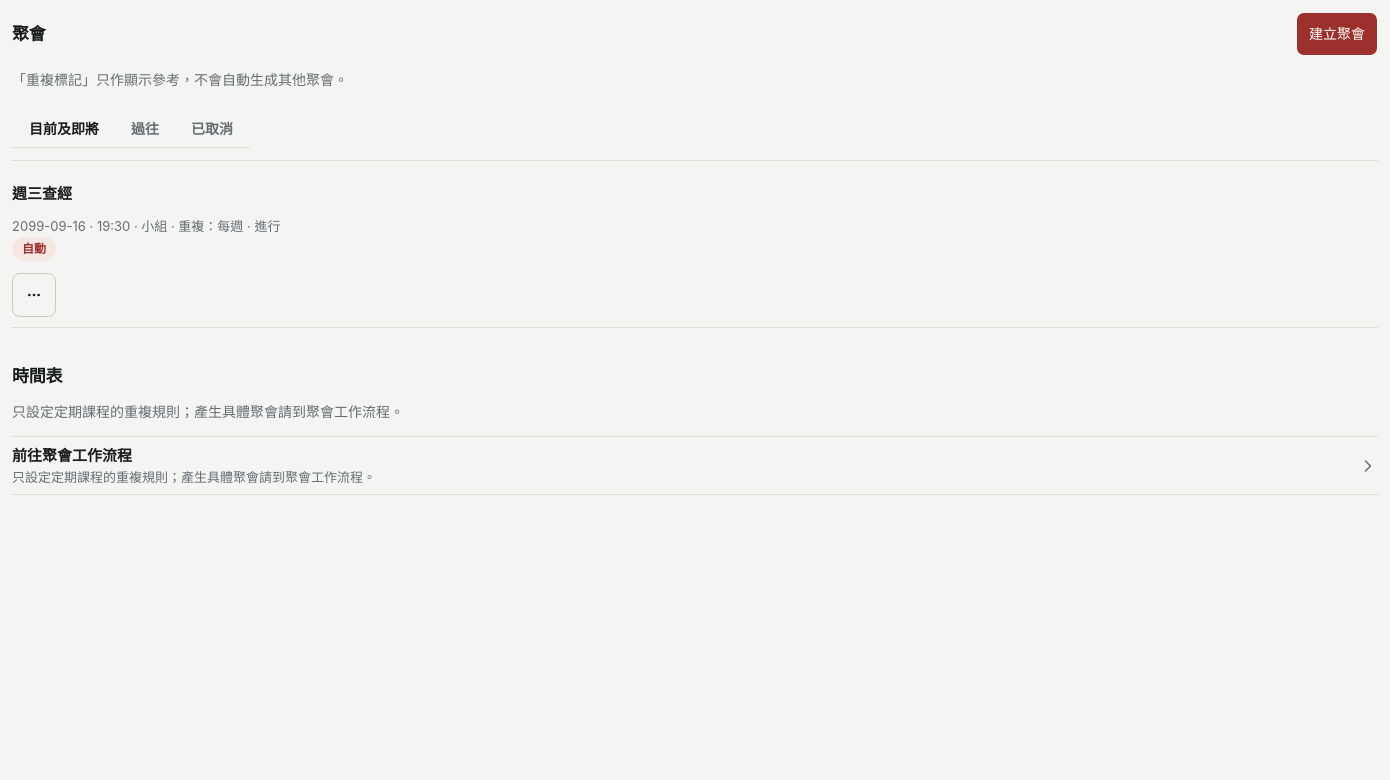
Test case: EventsTask operations-first composition › keeps edit, reschedule, and cancel behind a More menu
Click the button named "更多操作" at (34, 295), box [12,273,56,317]
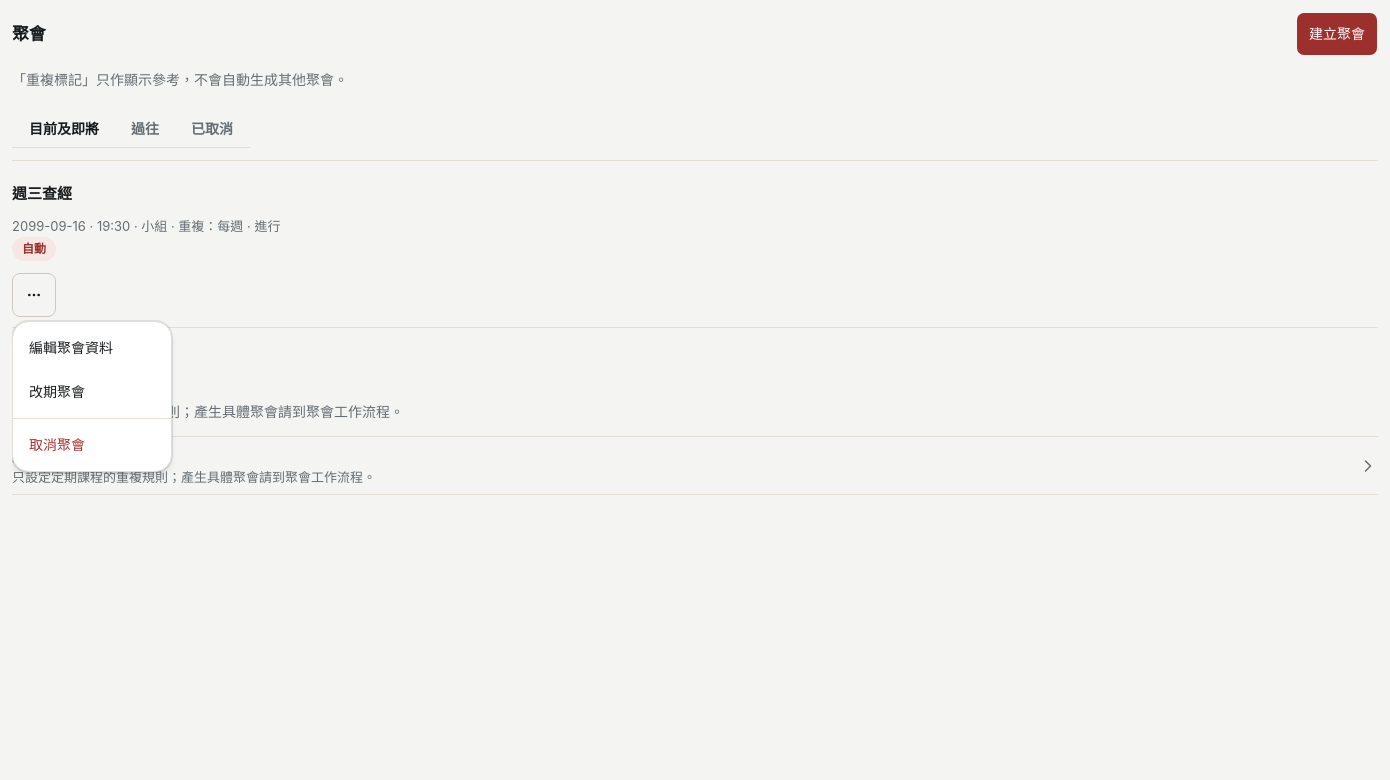
Expected: the menu item "編輯聚會資料" is shown, [29,339,113,356]
Expected: the menu item "改期聚會" is shown, [29,383,85,400]
Expected: the menu item "取消聚會" is shown
Click the menu item "取消聚會" at (57, 444), box [29,436,85,453]
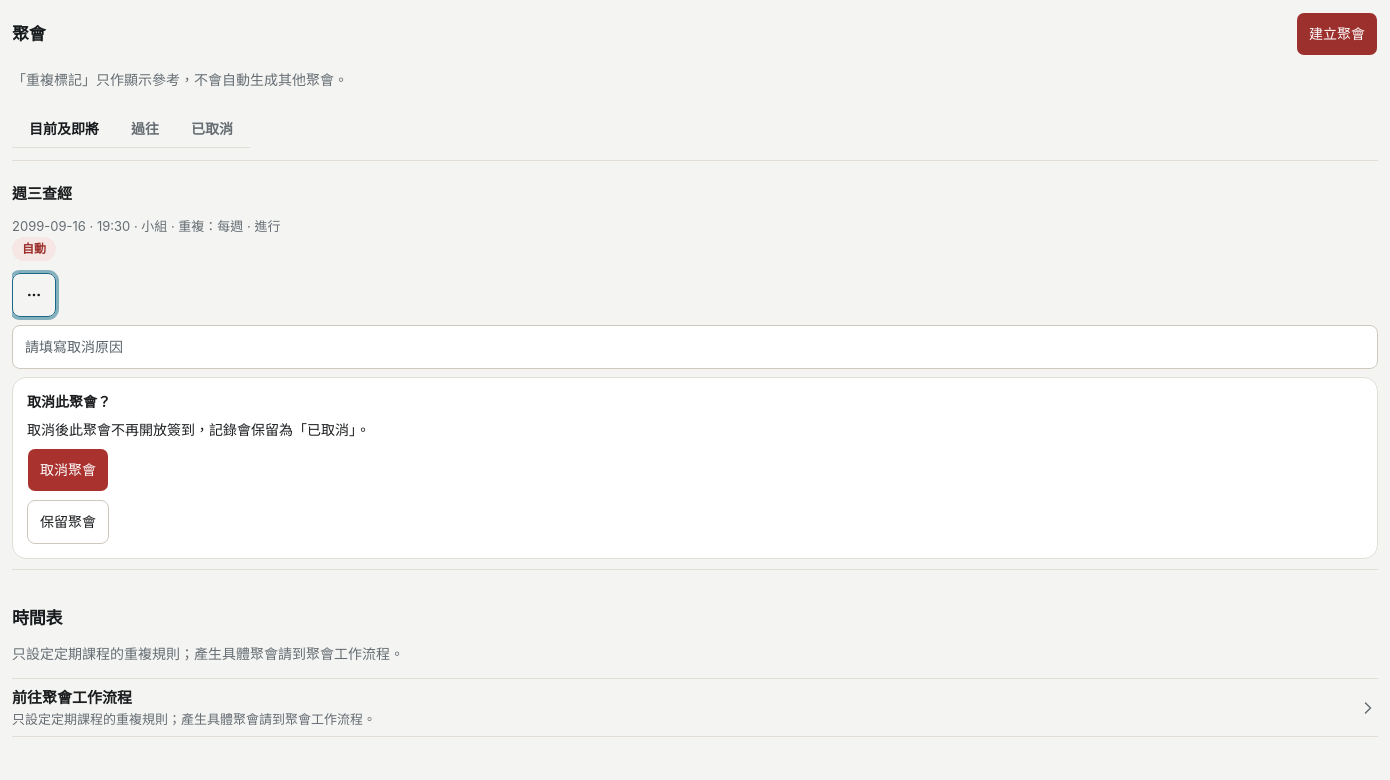
Expected: the field labelled "取消原因" is shown, [12,325,1378,369]
Expected: the button "保留聚會" is shown, [27,500,109,544]
